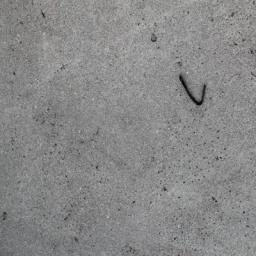FOD: (178, 72, 214, 111)
